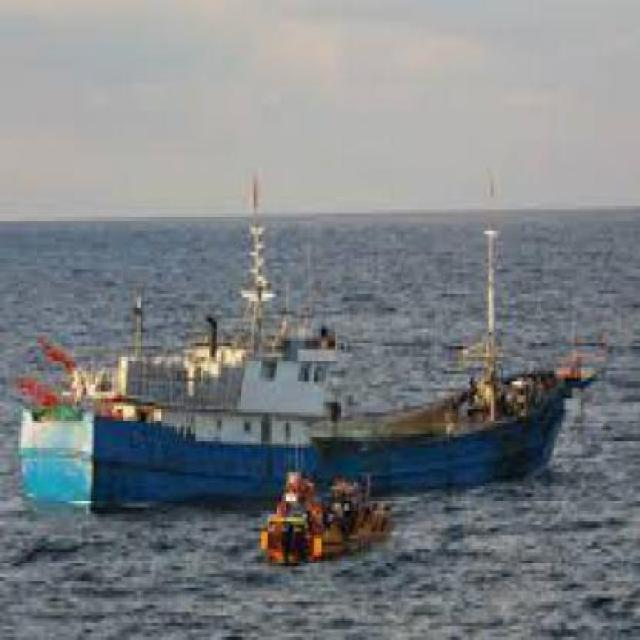fish-b: (8, 166, 599, 537)
